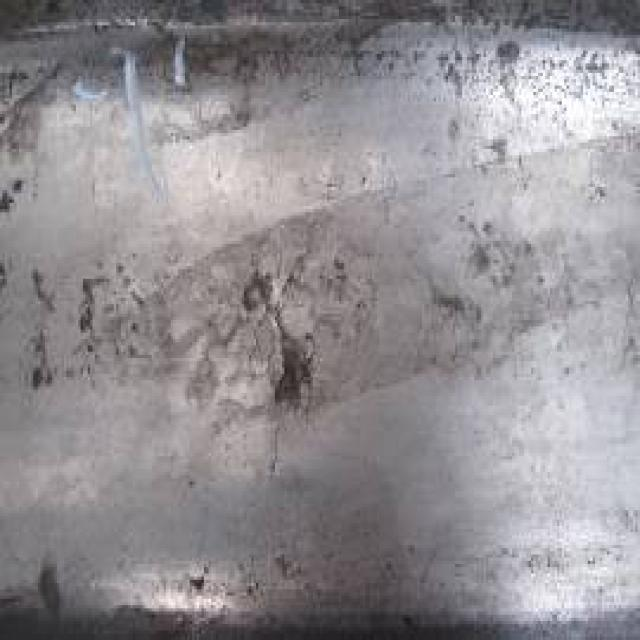Peeling: (242, 274, 317, 413), (336, 256, 347, 284)
